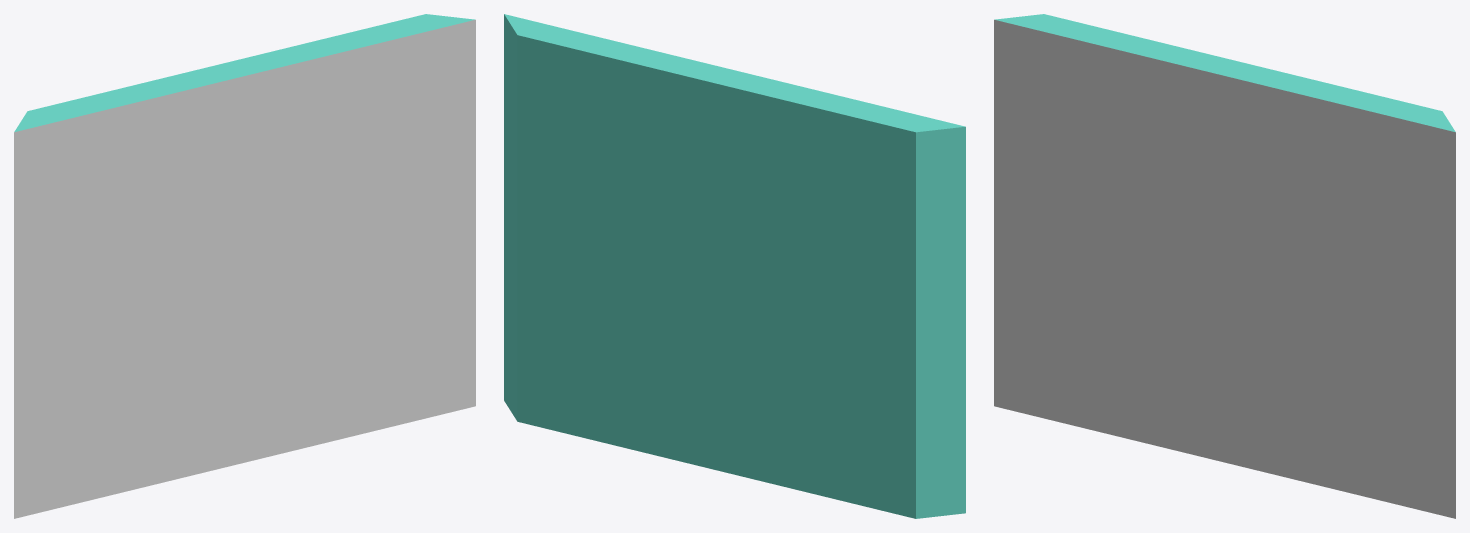
File: Wall01_Corner_Both.fbx
The picture shows the model from 3 angles, left to right: view 1: azimuth 30°, elevation 25°; view 2: azimuth 150°, elevation 25°; view 3: azimuth 330°, elevation 25°; orthographic projection.
Parts seen in each view (by area): view 1: Wall01_Corner_Both, Wall01_Corner_Both_Both.012, Wall01_Corner_Both_Both.015, Wall01_Corner_Both_Both.067, Wall01_Corner_Both_Both.074, Wall01_Corner_Both_Both.055, Wall01_Corner_Both_Both.060, Wall01_Corner_Both_Both.057, Wall01_Corner_Both_Both.014, Wall01_Corner_Both_Both.011, Wall01_Corner_Both_Both.059, Wall01_Corner_Both_Both (+39 smaller); view 2: Wall01_Corner_Both, Wall01_Corner_Both_Both.069, Wall01_Corner_Both_Both.077, Wall01_Corner_Both_Both.037, Wall01_Corner_Both_Both.045, Wall01_Corner_Both_Both.047, Wall01_Corner_Both_Both.071, Wall01_Corner_Both_Both.001, Wall01_Corner_Both_Both.015, Wall01_Corner_Both_Both.058, Wall01_Corner_Both_Both.002, Wall01_Corner_Both_Interior.012 (+35 smaller); view 3: Wall01_Corner_Both, Wall01_Corner_Both_Both.059, Wall01_Corner_Both_Both.077, Wall01_Corner_Both_Both.060, Wall01_Corner_Both_Both.073, Wall01_Corner_Both_Both.076, Wall01_Corner_Both_Both.057, Wall01_Corner_Both_Both.015, Wall01_Corner_Both_Both.072, Wall01_Corner_Both_Both.062, Wall01_Corner_Both_Both.012, Wall01_Corner_Both_Both.032 (+35 smaller).
Part boxes in pixels (box(x1,y1,x2,y2)): Wall01_Corner_Both: box(14, 15, 475, 518); Wall01_Corner_Both_Both.012: box(266, 48, 360, 121); Wall01_Corner_Both_Both.015: box(38, 90, 132, 157); Wall01_Corner_Both_Both.067: box(274, 78, 363, 156); Wall01_Corner_Both_Both.074: box(124, 147, 202, 243); Wall01_Corner_Both_Both.055: box(192, 99, 274, 159); Wall01_Corner_Both_Both.060: box(79, 254, 169, 347); Wall01_Corner_Both_Both.057: box(142, 336, 219, 420); Wall01_Corner_Both_Both.014: box(113, 74, 193, 149); Wall01_Corner_Both_Both.011: box(355, 20, 433, 81); Wall01_Corner_Both_Both.059: box(29, 326, 105, 433); Wall01_Corner_Both_Both: box(41, 231, 95, 294); Wall01_Corner_Both: box(504, 14, 965, 518); Wall01_Corner_Both_Both.069: box(585, 279, 676, 361); Wall01_Corner_Both_Both.077: box(741, 312, 861, 403); Wall01_Corner_Both_Both.037: box(862, 359, 945, 449); Wall01_Corner_Both_Both.045: box(539, 215, 604, 314); Wall01_Corner_Both_Both.047: box(517, 53, 557, 150); Wall01_Corner_Both_Both.071: box(667, 132, 759, 237); Wall01_Corner_Both_Both.001: box(556, 70, 617, 162); Wall01_Corner_Both_Both.015: box(831, 99, 921, 174); Wall01_Corner_Both_Both.058: box(737, 120, 831, 196); Wall01_Corner_Both_Both.002: box(582, 139, 659, 218); Wall01_Corner_Both_Interior.012: box(510, 273, 576, 355); Wall01_Corner_Both: box(994, 16, 1455, 518); Wall01_Corner_Both_Both.059: box(1009, 245, 1091, 336); Wall01_Corner_Both_Both.077: box(1090, 266, 1181, 330); Wall01_Corner_Both_Both.060: box(1059, 205, 1146, 282); Wall01_Corner_Both_Both.073: box(1187, 383, 1258, 462); Wall01_Corner_Both_Both.076: box(1149, 207, 1243, 303); Wall01_Corner_Both_Both.057: box(1096, 315, 1192, 386); Wall01_Corner_Both_Both.015: box(1034, 16, 1128, 100); Wall01_Corner_Both_Both.072: box(1182, 308, 1272, 378); Wall01_Corner_Both_Both.062: box(1004, 60, 1107, 123); Wall01_Corner_Both_Both.012: box(1251, 80, 1347, 138); Wall01_Corner_Both_Both.032: box(994, 97, 1022, 190).
Bounding box in the file's own units: 350 × 280 × 24.
